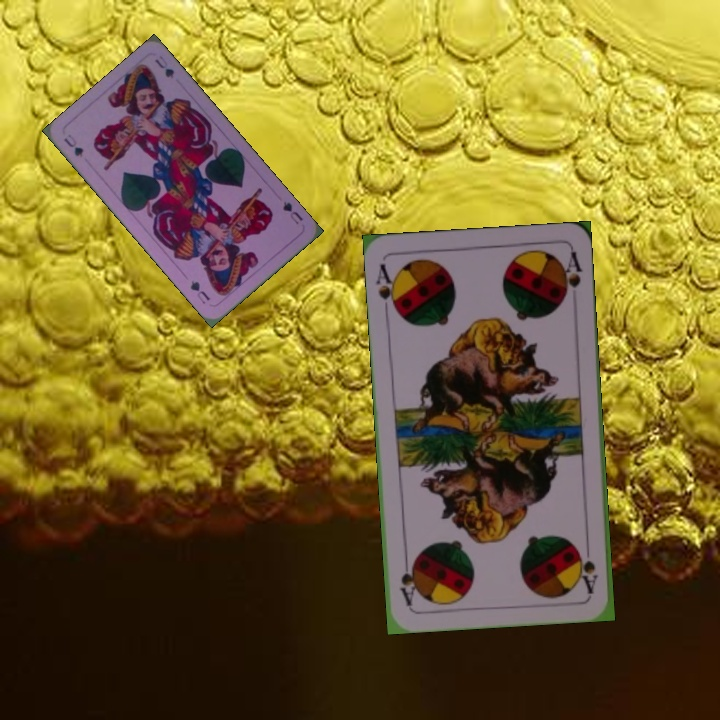GU: (278, 197, 306, 227), (60, 130, 86, 160)
SA: (372, 260, 401, 318), (575, 536, 600, 596)
